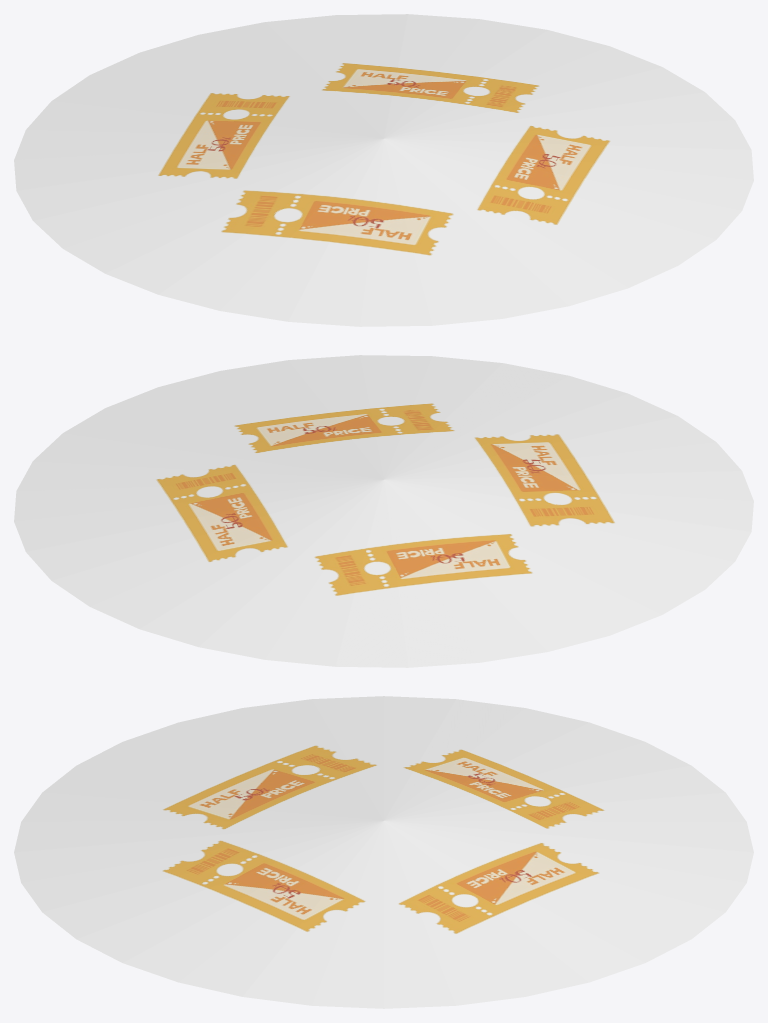
The picture shows the model from 3 angles, top to bottom: view 1: azimuth 30°, elevation 25°; view 2: azimuth 150°, elevation 25°; view 3: azimuth 270°, elevation 25°; orthographic projection.
Visible parts, largest first — view 1: piece1, piece.002, piece, piece.001; view 2: piece, piece.001, piece1, piece.002; view 3: piece.001, piece.002, piece1, piece.
Boxes of the visible parts, left/top/right/bottom form: piece1: left=63, top=139, right=568, bottom=326; piece.002: left=384, top=92, right=753, bottom=305; piece: left=14, top=35, right=383, bottom=248; piece.001: left=199, top=14, right=704, bottom=138; piece: left=199, top=480, right=704, bottom=667; piece.001: left=14, top=433, right=383, bottom=646; piece1: left=384, top=376, right=753, bottom=589; piece.002: left=63, top=355, right=568, bottom=479; piece.001: left=384, top=821, right=753, bottom=1008; piece.002: left=14, top=821, right=383, bottom=1008; piece1: left=14, top=696, right=383, bottom=852; piece: left=384, top=696, right=753, bottom=852.
Bounding box in the file's own units: 2 × 0.0944 × 2.
Materials: 1 (1 with a texture image).
